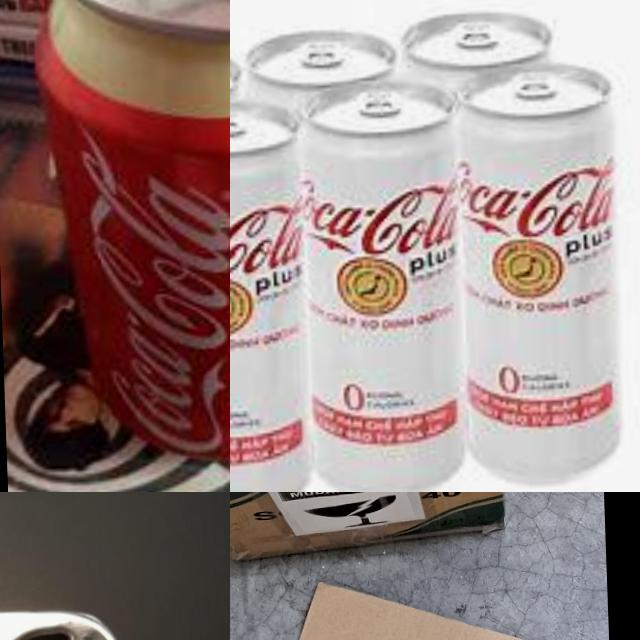aba de lata: (302, 38, 343, 71), (458, 18, 500, 46), (359, 88, 400, 115), (514, 72, 554, 98), (230, 111, 246, 138)
lata: (26, 0, 230, 469), (445, 60, 628, 492), (286, 80, 471, 492), (230, 95, 315, 492), (400, 8, 554, 104), (248, 28, 397, 93)
papelão: (239, 574, 613, 640), (230, 492, 505, 560)
